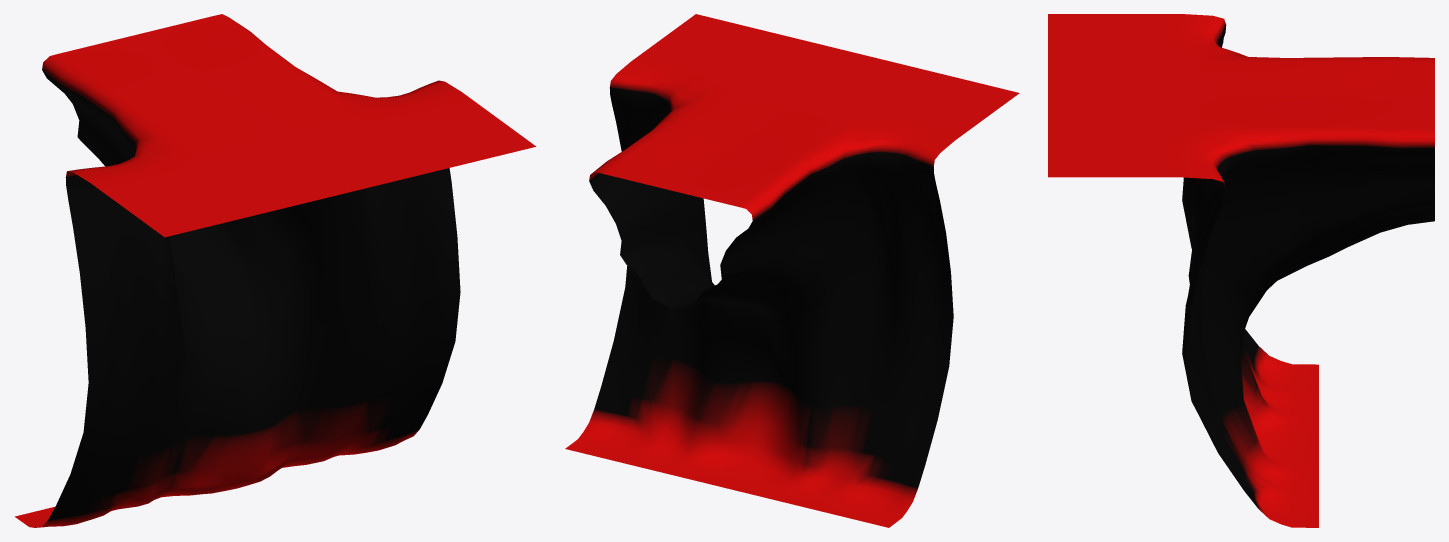
Rendered from CrossingCliff02A 2M Foreground.fbx.
The picture shows the model from 3 angles, left to right: view 1: azimuth 30°, elevation 25°; view 2: azimuth 150°, elevation 25°; view 3: azimuth 270°, elevation 25°; orthographic projection. The views are drawn at different scales.
Visible parts, largest first — view 1: CrossingCliff02A 2M Foreground; view 2: CrossingCliff02A 2M Foreground; view 3: CrossingCliff02A 2M Foreground.
Part boxes in pixels (bbox=[...]): CrossingCliff02A 2M Foreground: bbox=[15, 14, 535, 527]; CrossingCliff02A 2M Foreground: bbox=[565, 14, 1019, 527]; CrossingCliff02A 2M Foreground: bbox=[1048, 14, 1434, 527].
Size of the model in its own units: 2 by 2.01 by 2.
